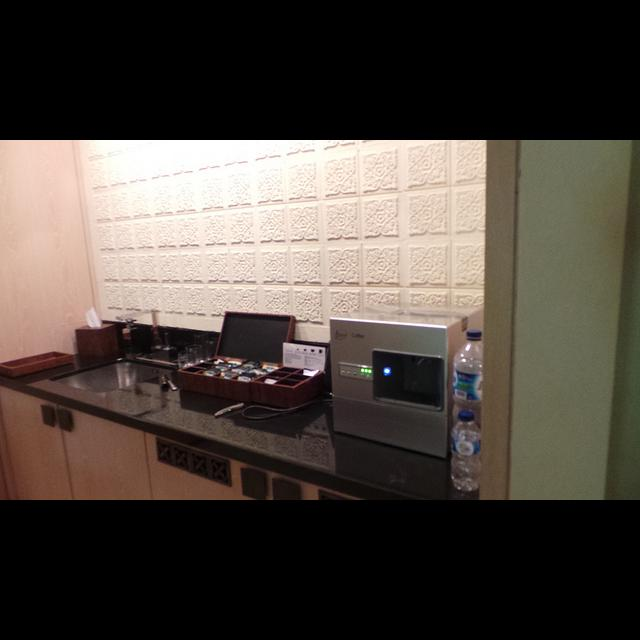Microwave: (330, 308, 464, 458)
